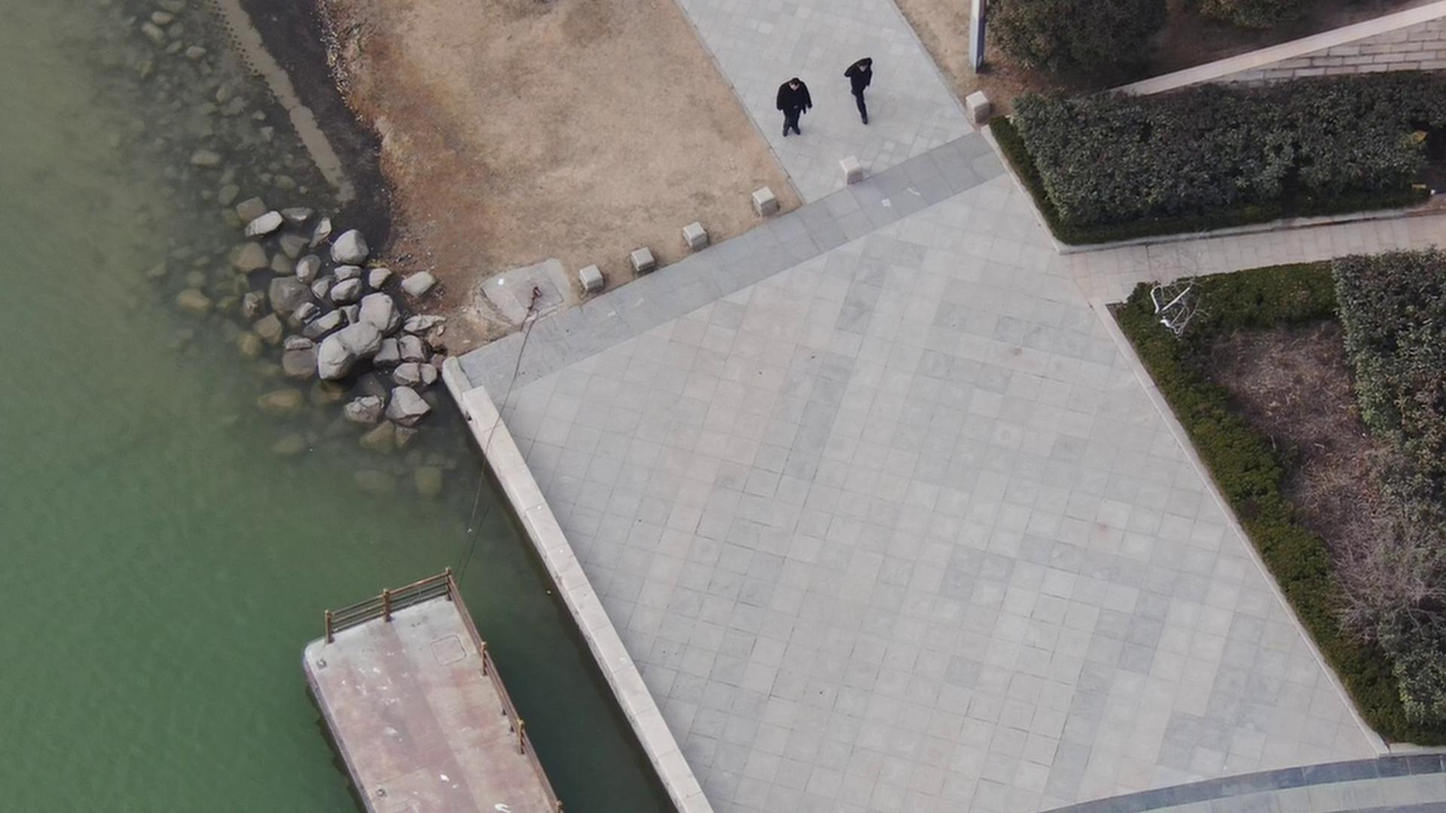human: (815, 36, 864, 110), (750, 59, 795, 127)
